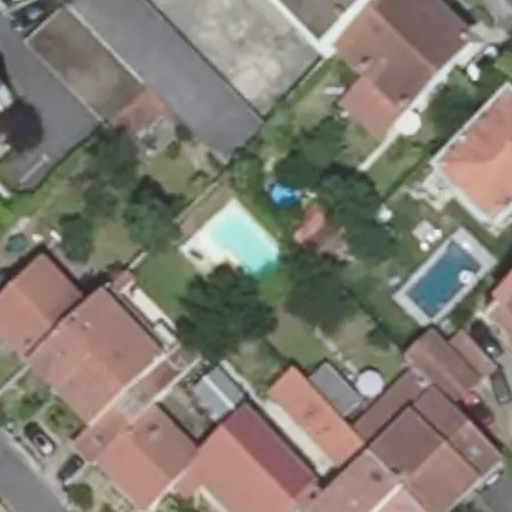pool: (208, 228, 294, 255)
